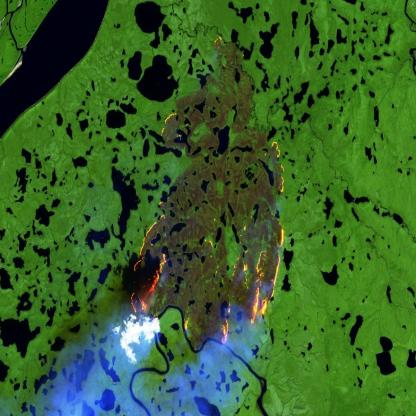fire: (125, 31, 288, 366)
